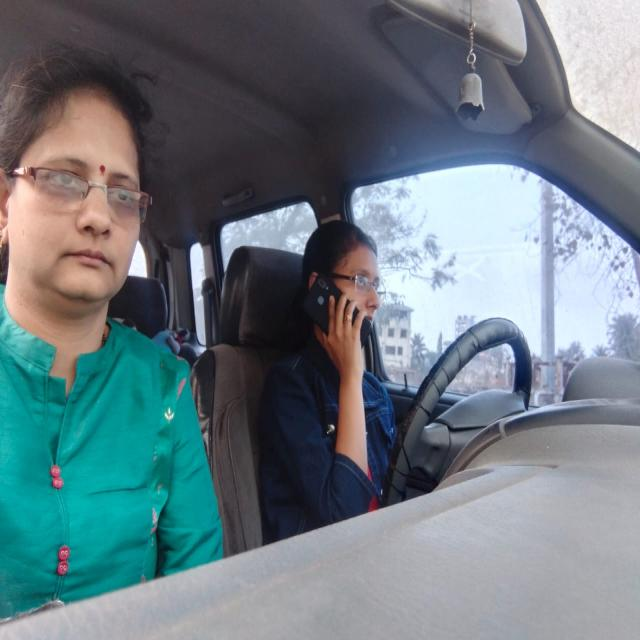mobile: (302, 268, 380, 354)
person: (0, 35, 158, 307), (292, 224, 388, 340)
